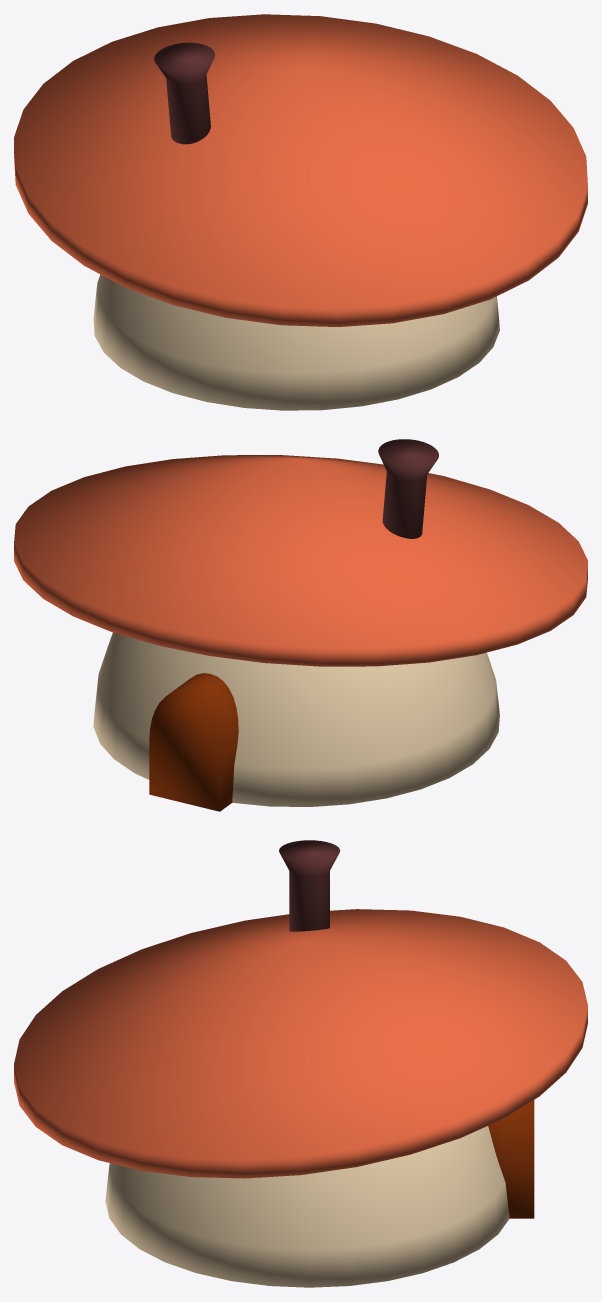
Rendered from Home.fbx.
3 views of the same model, one above another, from view 1: azimuth 30°, elevation 25°; view 2: azimuth 150°, elevation 25°; view 3: azimuth 270°, elevation 25° (orthographic).
Parts seen in each view (by area): view 1: Home; view 2: Home; view 3: Home.
Boxes of the visible parts, x1=… form: Home: x1=14, y1=14, x2=587, y2=410; Home: x1=14, y1=439, x2=587, y2=811; Home: x1=14, y1=840, x2=587, y2=1287.
Size of the model in its own units: 2828 by 2811 by 1612.
